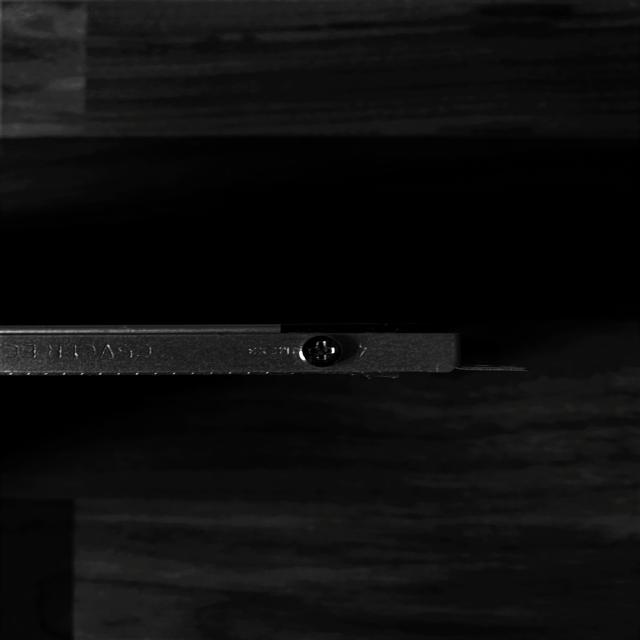PhillipsScrewHead: (297, 333, 344, 368)
